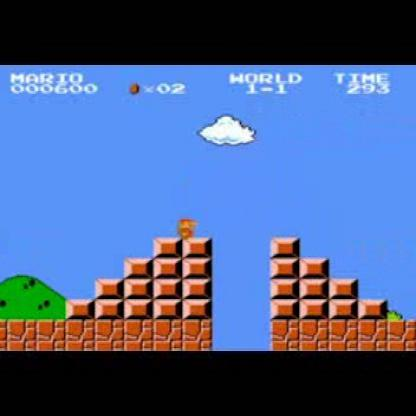Hoyo: (204, 320, 275, 349)
